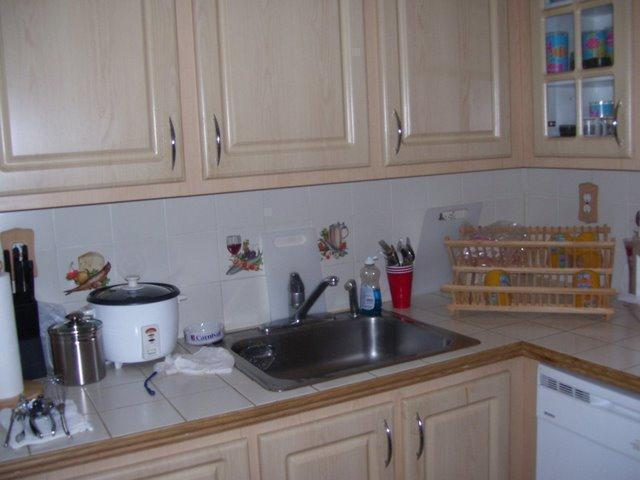Lavaplatos: (202, 254, 488, 396)
